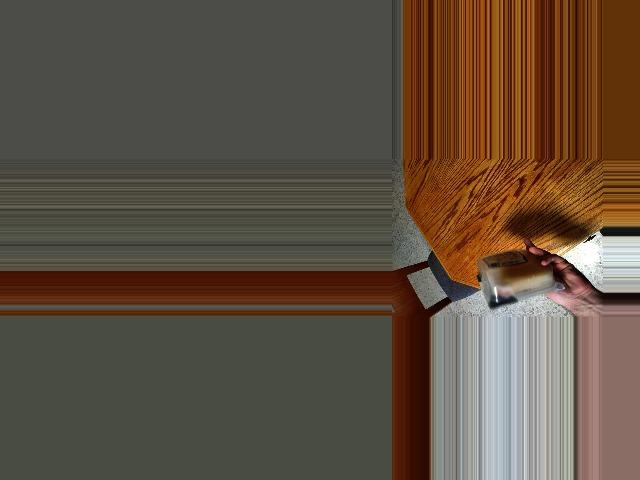cheese: (474, 246, 556, 307)
